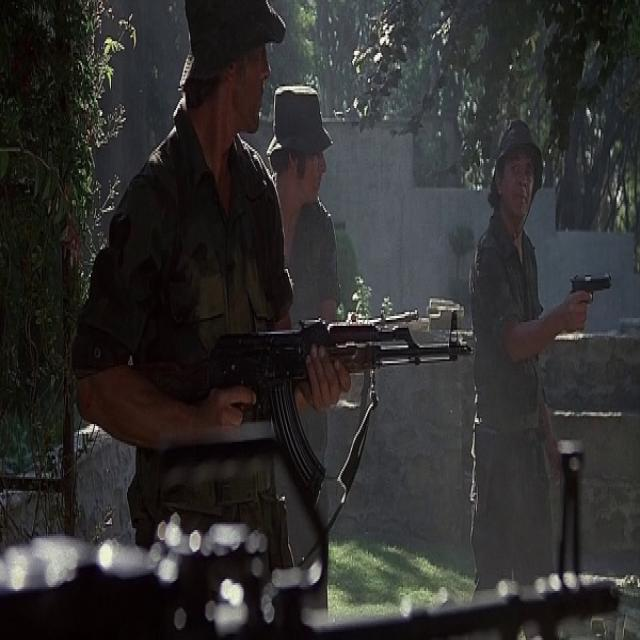rifle: (192, 302, 476, 513)
